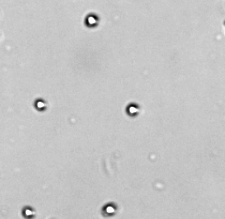Living Cell: (102, 201, 118, 216), (84, 13, 99, 27), (126, 103, 140, 117), (34, 99, 47, 111), (22, 206, 35, 218)
